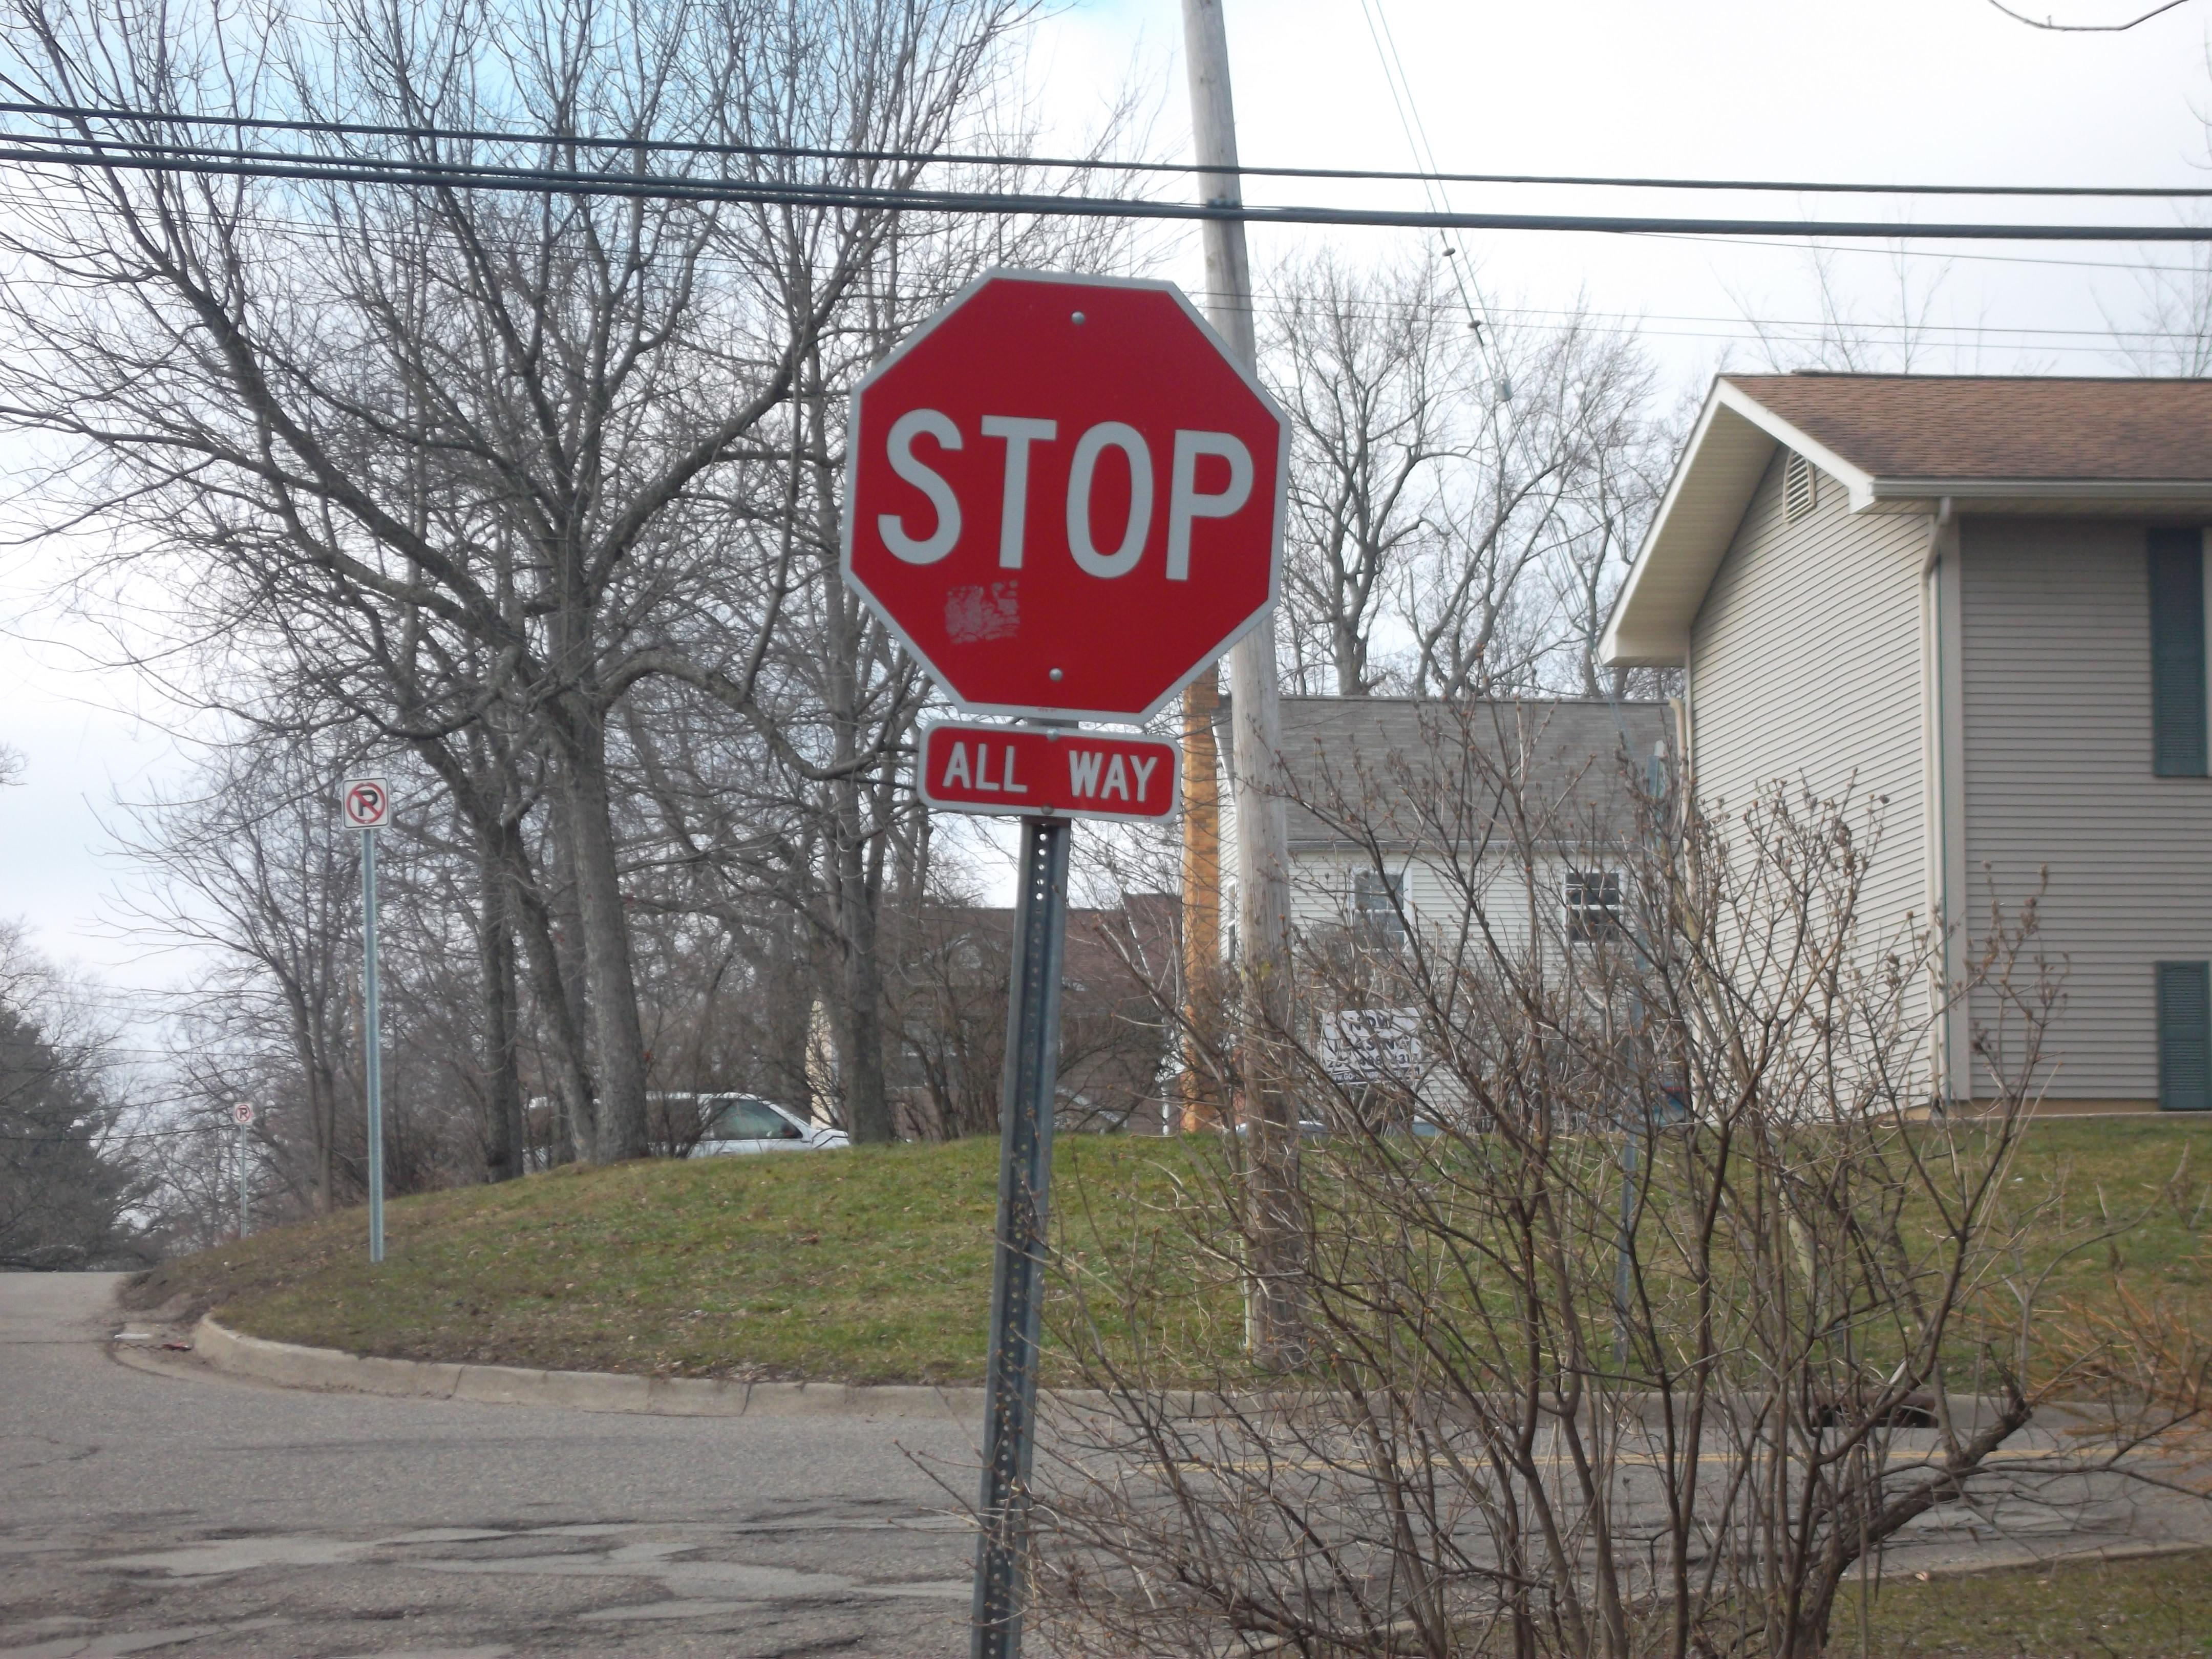stop: (831, 261, 1294, 718)
